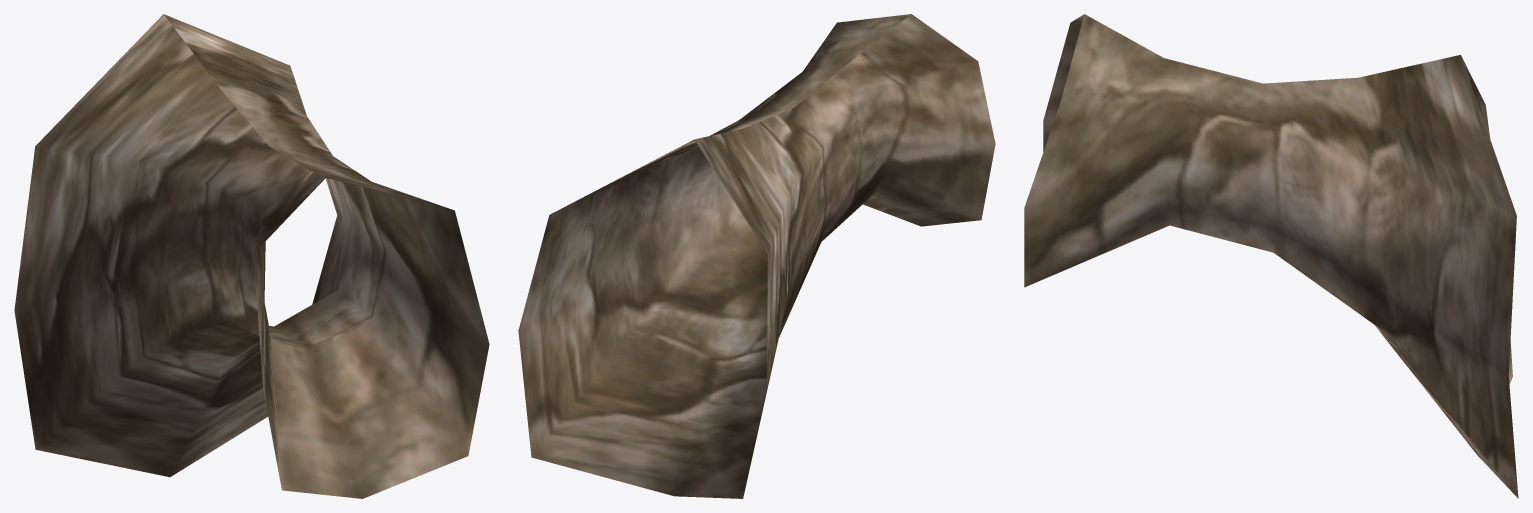
Rendered from OVERHILL_A_01_LINE26.fbx.
The picture shows the model from 3 angles, left to right: view 1: azimuth 30°, elevation 25°; view 2: azimuth 150°, elevation 25°; view 3: azimuth 270°, elevation 25°; orthographic projection. The views are drawn at different scales.
Visible parts, largest first — view 1: OVERHILL_A_01_LINE26; view 2: OVERHILL_A_01_LINE26; view 3: OVERHILL_A_01_LINE26.
Boxes of the visible parts, x1,y1,x2,y2 form: OVERHILL_A_01_LINE26: (14, 14, 489, 498); OVERHILL_A_01_LINE26: (518, 14, 995, 498); OVERHILL_A_01_LINE26: (1024, 14, 1518, 498).
Bounding box in the file's own units: 23667 × 31035 × 33989.
Materials: 1 (1 with a texture image).
